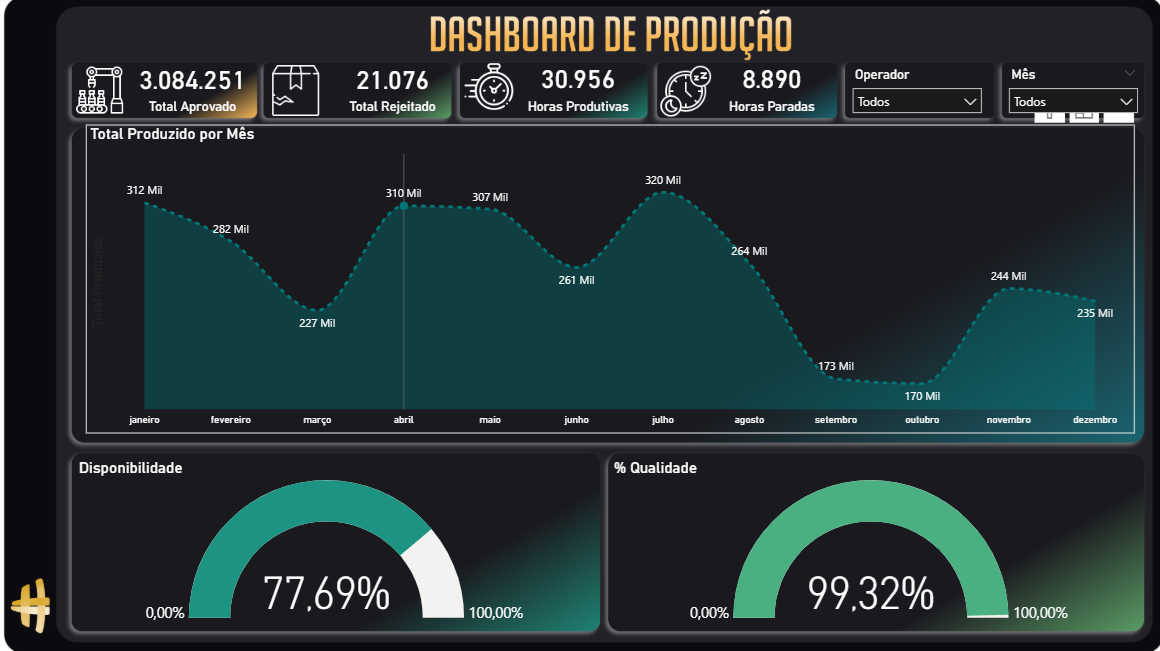

Layout of this report page (visuals, bound fields, positions):
{"tool":"powerbi","page":{"name":"Página 1","canvas":[1280,720],"ordinal":0},"visuals":[{"type":"card","fields":{"Values":["BaseProdução.Total Aprovado"]},"box":[118,23.3,193.5,149.6],"z":0},{"type":"card","fields":{"Values":["BaseProdução.Horas Paradas"]},"box":[754.7,22,192.1,150.9],"z":2000},{"type":"card","fields":{"Values":["BaseProdução.Horas Produtivas"]},"box":[542,22,192.1,150.9],"z":3000},{"type":"areaChart","fields":{"Category":["BaseProdução.Data Inicio.Variation.Hierarquia de datas.Mês"],"Y":["BaseProdução.Total Produzido"]},"box":[97.4,140,1151.3,338.9],"z":4000},{"type":"gauge","fields":{"Y":["BaseProdução.Disponibilidade"]},"box":[85.1,506.3,570.8,185.2],"z":5000},{"type":"gauge","fields":{"Y":["BaseProdução.% Qualidade"]},"box":[672.4,506.3,591.4,185.2],"z":6000},{"type":"slicer","fields":{"Values":["BaseProdução.Operador"]},"box":[929,71.4,161.9,68.6],"z":7000},{"type":"slicer","fields":{"Values":["BaseProdução.Data Inicio.Variation.Hierarquia de datas.Mês"]},"box":[1100.5,71.4,161.9,68.6],"z":8000},{"type":"image","box":[513.2,65.9,53.5,64.5],"z":9000},{"type":"image","box":[727.3,71.4,57.6,64.5],"z":10000},{"type":"image","box":[85.1,71.4,54.9,61.7],"z":11000},{"type":"image","box":[301.9,65.9,56.3,74.1],"z":12000},{"type":"card","fields":{"Values":["BaseProdução.Total Rejeitado"]},"box":[337.6,23.3,193.5,149.6],"z":13000}]}

Visuals, with their boxes in screenshot pixels (x1, y1, x2, y2), scaled from the page's 1280x720 canvas onto the 1160x651 screenshot:
card - BaseProdução.Total Aprovado: 107/21/282/156
card - BaseProdução.Horas Paradas: 684/20/858/156
card - BaseProdução.Horas Produtivas: 491/20/665/156
areaChart - BaseProdução.Data Inicio.Variation.Hierarquia de datas.Mês x BaseProdução.Total Produzido: 88/127/1132/433
gauge - BaseProdução.Disponibilidade: 77/458/594/625
gauge - BaseProdução.% Qualidade: 609/458/1145/625
slicer - BaseProdução.Operador: 842/65/989/127
slicer - BaseProdução.Data Inicio.Variation.Hierarquia de datas.Mês: 997/65/1144/127
image: 465/60/514/118
image: 659/65/711/123
image: 77/65/127/120
image: 274/60/325/127
card - BaseProdução.Total Rejeitado: 306/21/481/156
